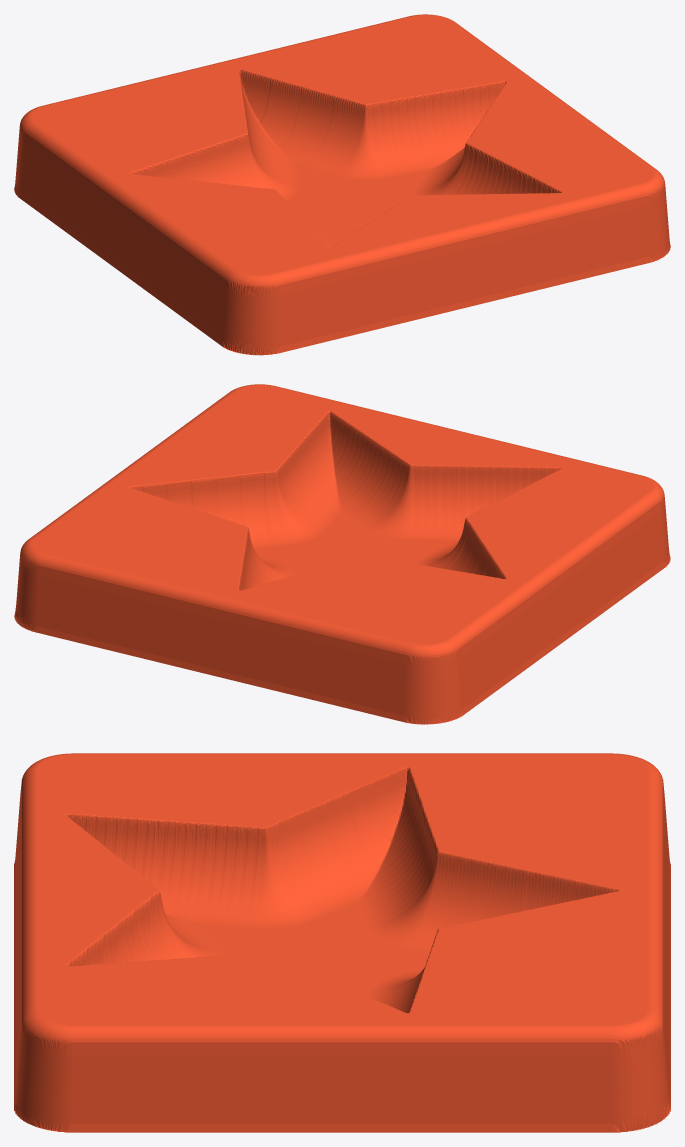
The model's file is mold.glb.
3 renders of one model, top to bottom at view 1: azimuth 30°, elevation 25°; view 2: azimuth 150°, elevation 25°; view 3: azimuth 270°, elevation 25°, orthographic. The views are drawn at different scales.
Visible parts, largest first — view 1: geometry_0; view 2: geometry_0; view 3: geometry_0.
Boxes of the visible parts, left/top/right/bottom form: geometry_0: left=14, top=14, right=670, bottom=355; geometry_0: left=14, top=384, right=670, bottom=724; geometry_0: left=14, top=753, right=670, bottom=1132.
Size of the model in its own units: 0.105 by 0.0165 by 0.1006.
